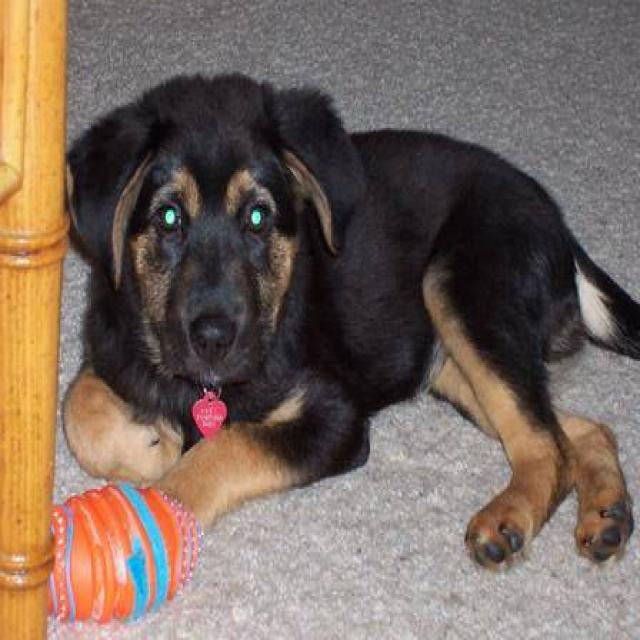Dog: (52, 60, 370, 389)
